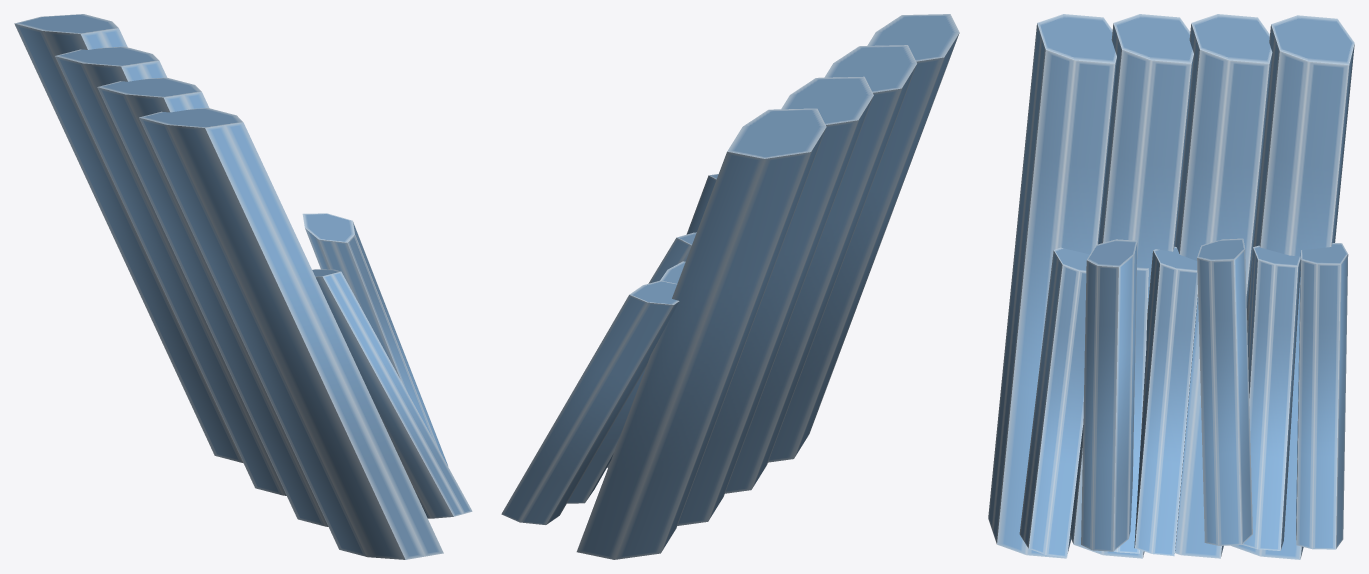
The model's file is wall_crystal_pipes_09.fbx.
3 renders of one model, left to right at view 1: azimuth 30°, elevation 25°; view 2: azimuth 150°, elevation 25°; view 3: azimuth 270°, elevation 25°, orthographic. The views are drawn at different scales.
Visible parts, largest first — view 1: wall_crystal_pipes_09; view 2: wall_crystal_pipes_09; view 3: wall_crystal_pipes_09.
Part boxes in pixels (<box>): wall_crystal_pipes_09: <box>14,14,472,559</box>; wall_crystal_pipes_09: <box>501,14,959,559</box>; wall_crystal_pipes_09: <box>988,14,1354,559</box>.
Size of the model in its own units: 1.25 by 1.78 by 1.35.
1 material, 1 textured.
